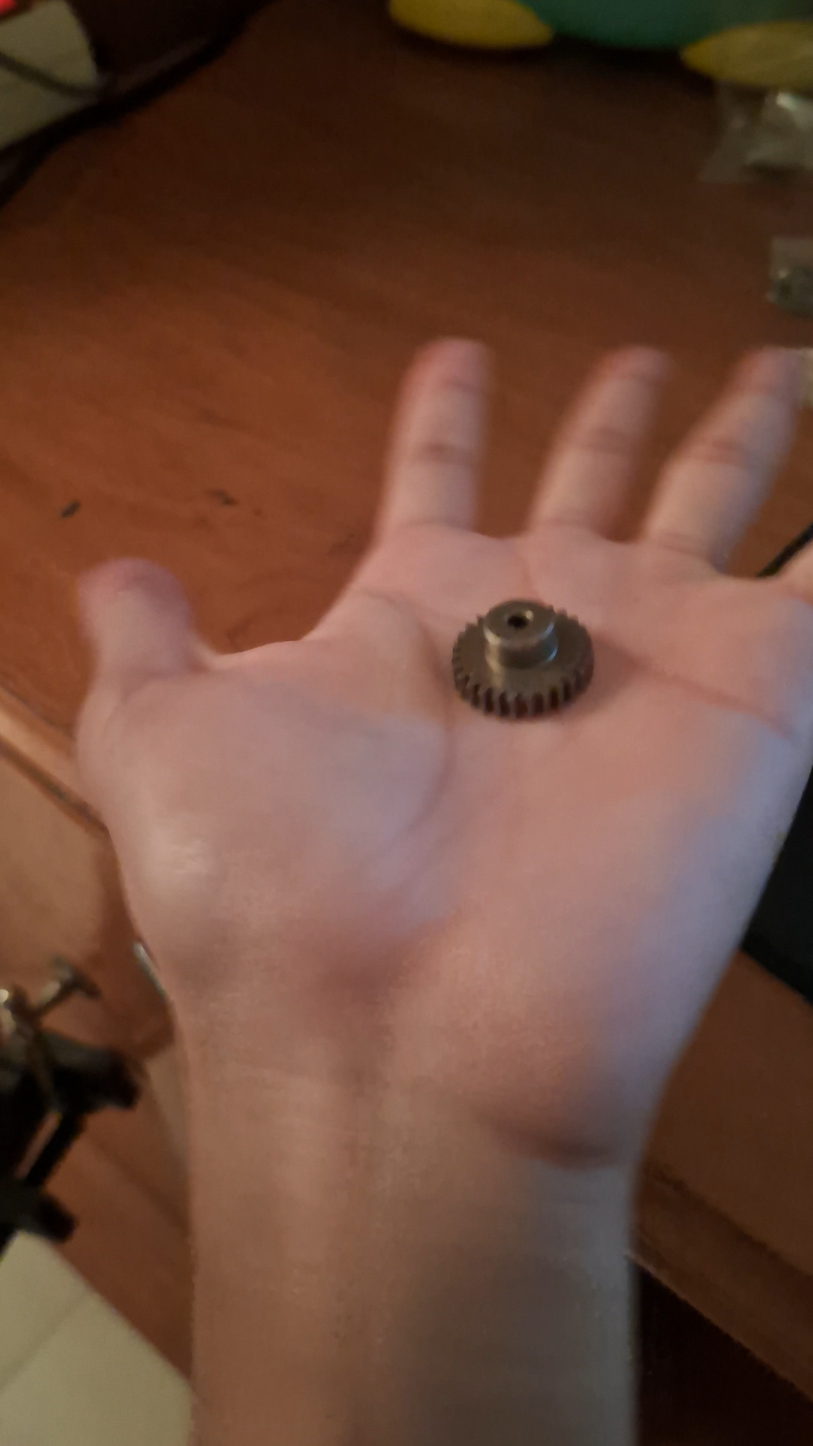spur gear: (451, 599, 594, 720)
